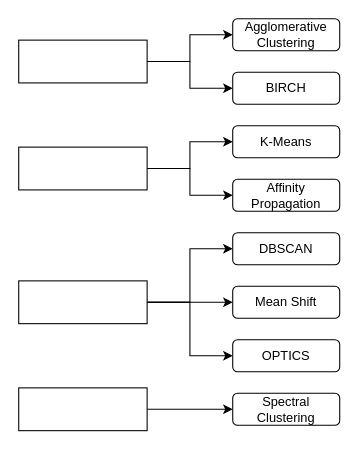
This 358x449 diagram has some shape labels left out. Each missing label, with the centre of its shape:
"Centroid-Based Clustering" goes at pixel 82 168.
"Density-Based Clustering" goes at pixel 82 302.
"Graph-Based Clustering" goes at pixel 82 409.
"Hierarchical Clustering" goes at pixel 82 61.
